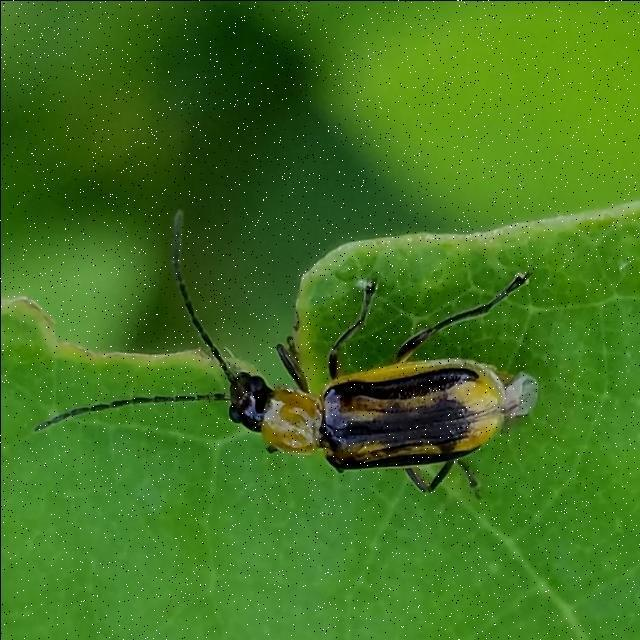trips: (33, 207, 536, 502)
